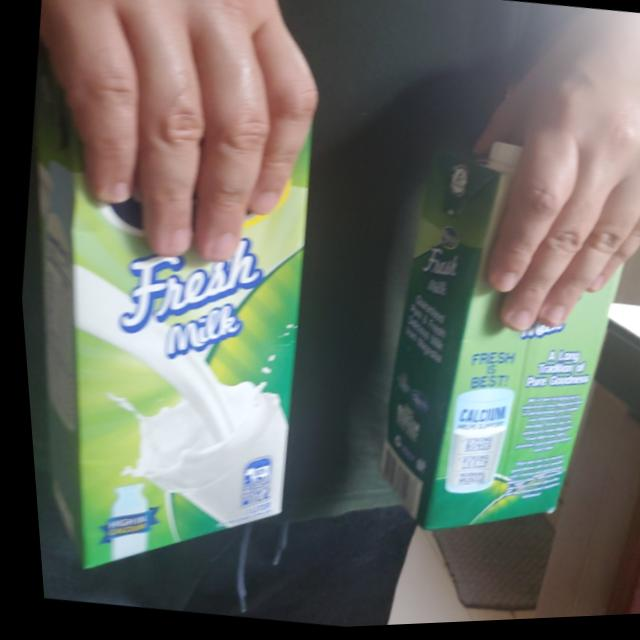milk: (3, 36, 345, 609), (343, 131, 640, 567)
